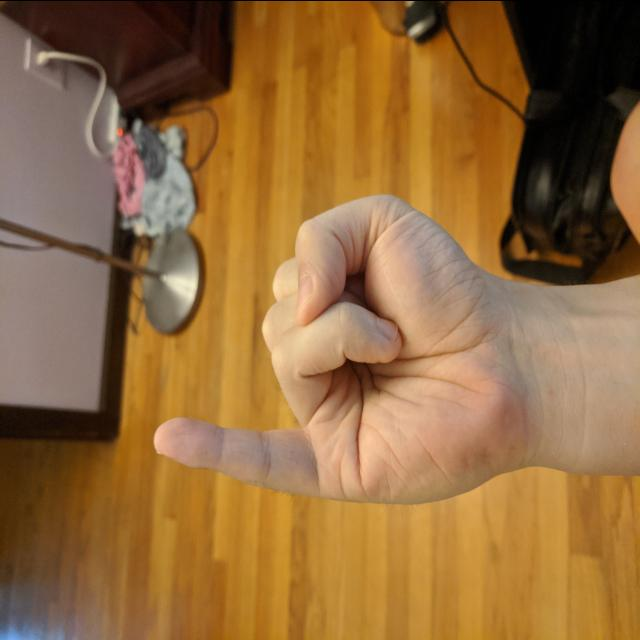I: (147, 185, 538, 513)
